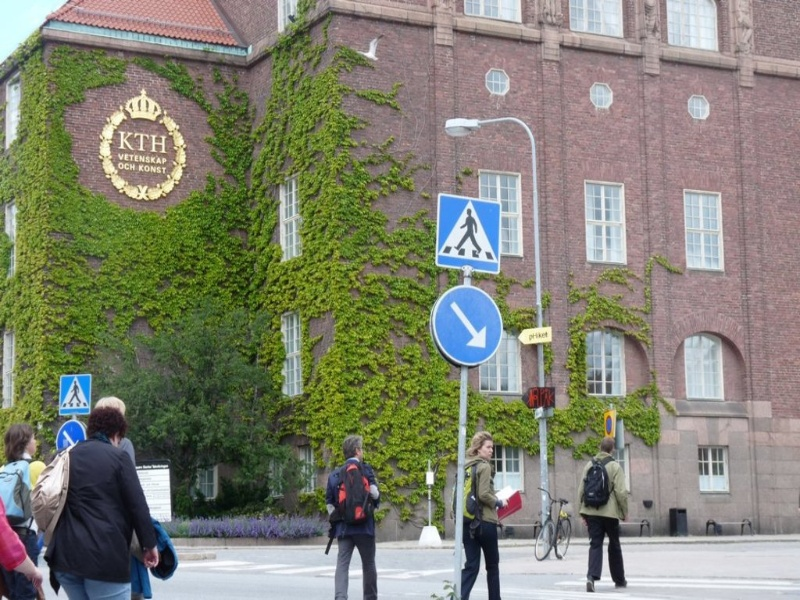pedestrian_crossing_ahead: (435, 190, 504, 275), (56, 371, 90, 415)
right_direction: (446, 294, 490, 353)
